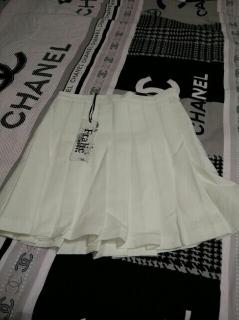skirt: (1, 88, 239, 259)
